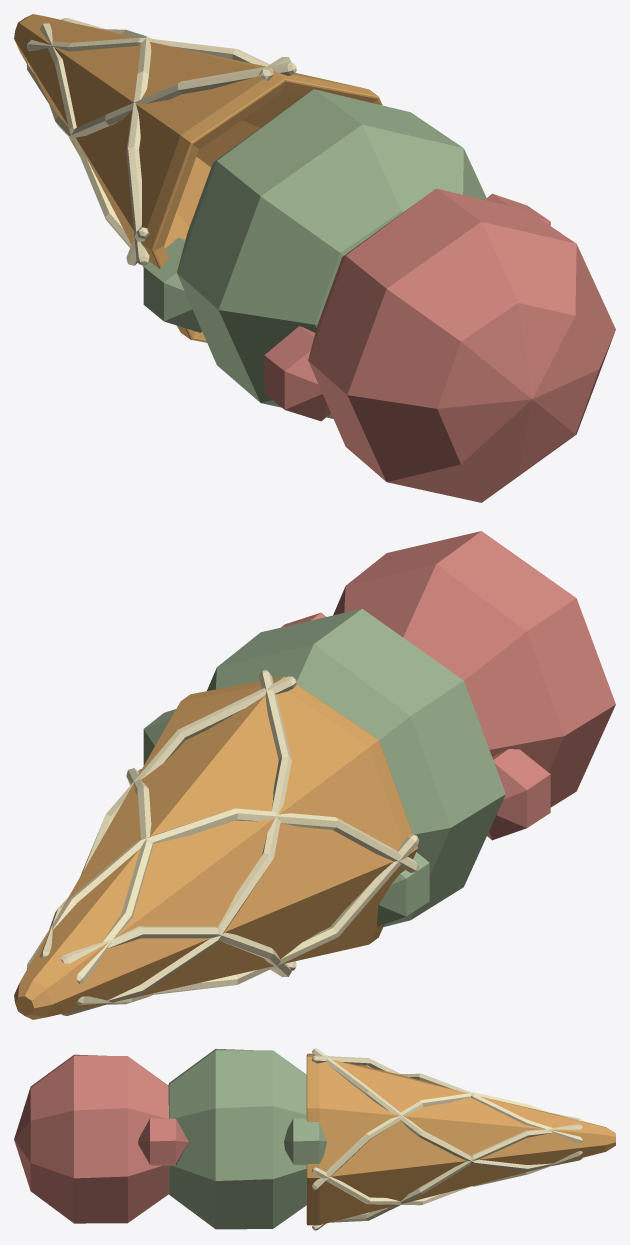
The model's file is ice_cream_cone.glb.
3 views of the same model, one above another, from view 1: azimuth 30°, elevation 25°; view 2: azimuth 150°, elevation 25°; view 3: azimuth 270°, elevation 25° (orthographic). The views are drawn at different scales.
Visible parts, largest first — view 1: ice_cream_cone; view 2: ice_cream_cone; view 3: ice_cream_cone.
Part boxes in pixels (x1,y1,x2,y2): ice_cream_cone: (14, 14, 615, 502); ice_cream_cone: (14, 531, 615, 1019); ice_cream_cone: (14, 1048, 615, 1230).
Bounding box in the file's own units: 0.0604 × 0.0604 × 0.1847.
